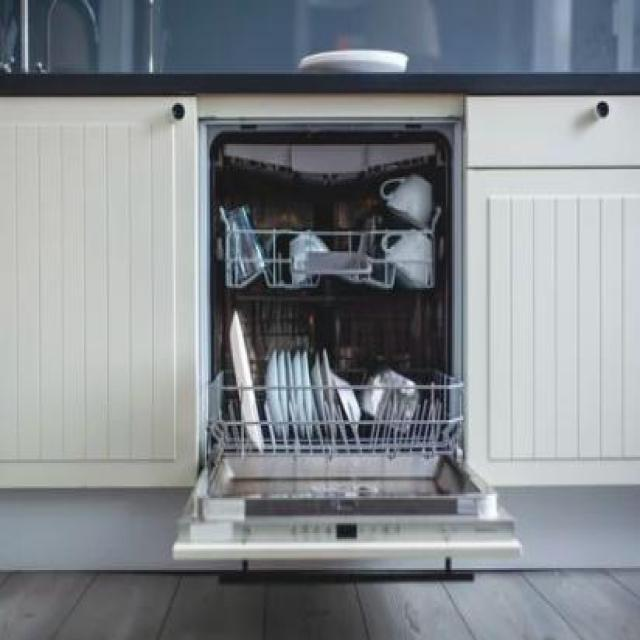dishwasher: (168, 93, 526, 578)
